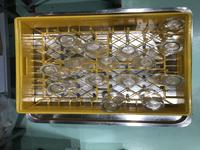Glass: (150, 17, 185, 41), (146, 40, 183, 57), (149, 72, 187, 87), (139, 90, 164, 111), (39, 64, 73, 79), (56, 33, 84, 51), (100, 94, 124, 111), (47, 81, 78, 94), (95, 56, 121, 71), (64, 57, 93, 70), (84, 41, 107, 56), (115, 45, 139, 59), (116, 73, 138, 88), (131, 56, 155, 69), (86, 74, 109, 86)
